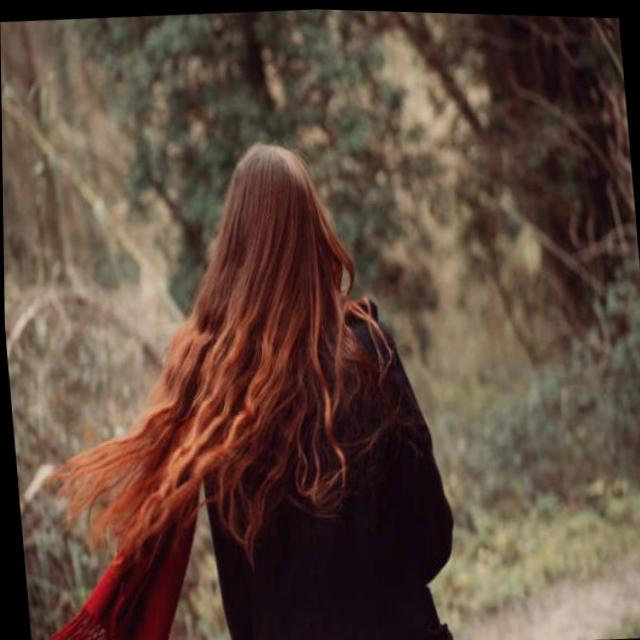no helmet: (189, 125, 362, 392)
